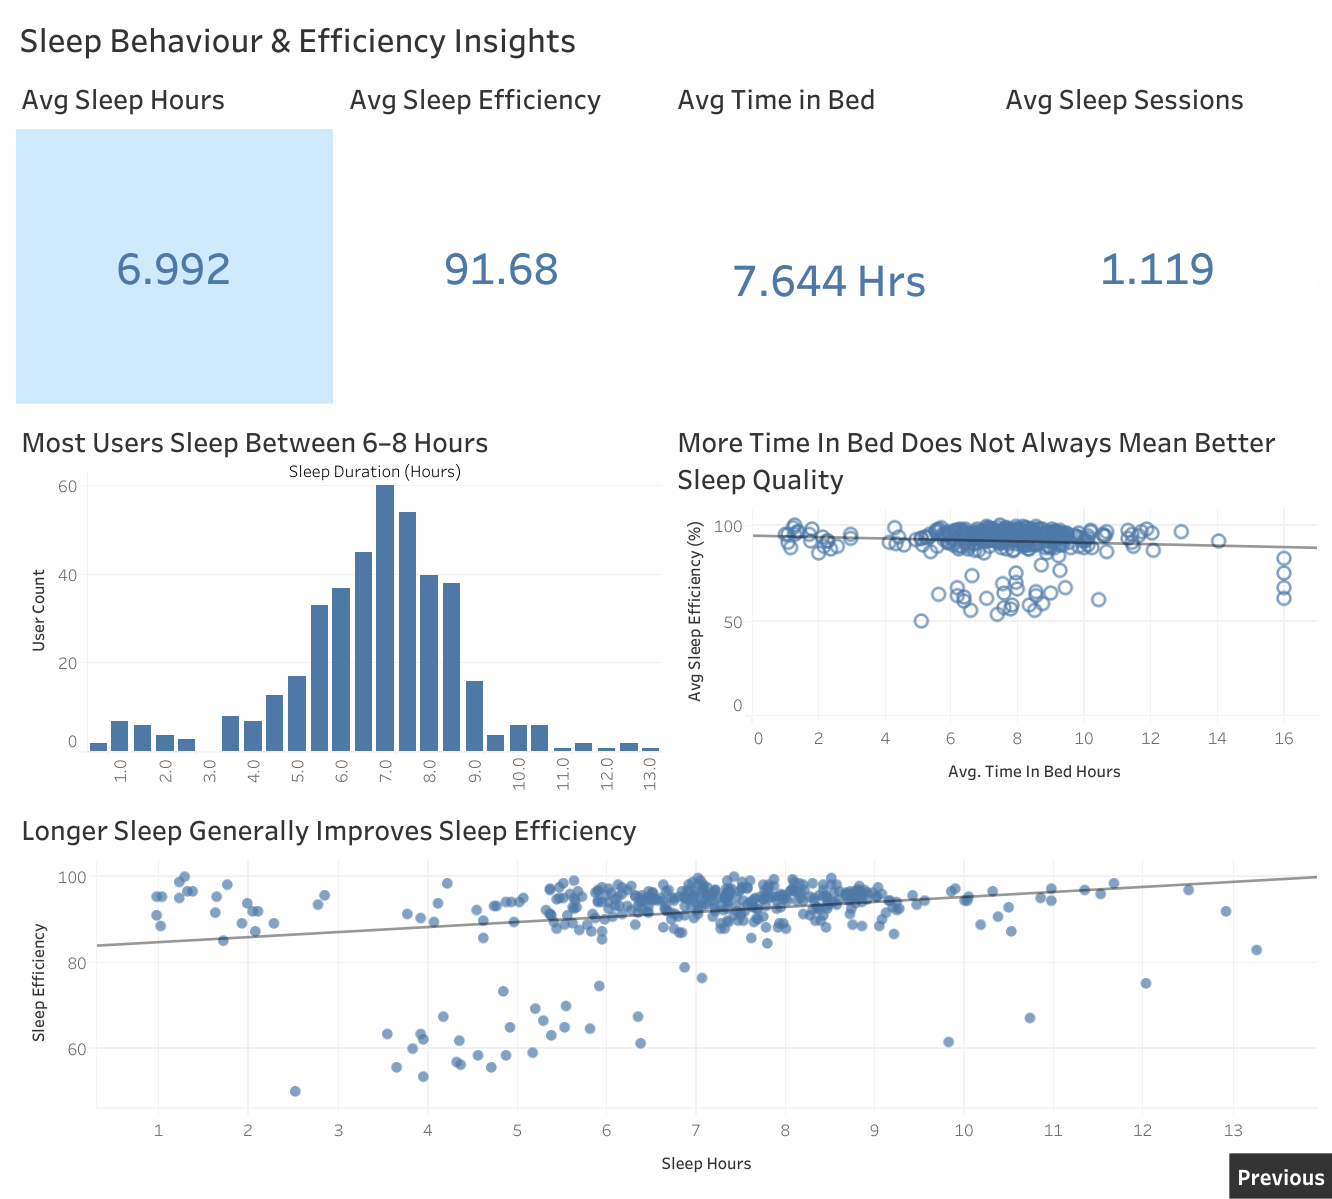

The page's visual inventory and layout, read from the dashboard file:
{"tool":"tableau","page":{"name":"Dashboard 3 - Sleep Behavior & Efficiency Insights","canvas":[1000,900],"ordinal":2},"visuals":[{"type":"title","box":[8,8,984,42]},{"type":"worksheet","title":"KPI - Avg Sleep Hours","mark":"Text","box":[8,50,246,257.2]},{"type":"worksheet","title":"KPI - Avg Sleep Efficiency","mark":"Automatic","box":[254,50,246,257.2]},{"type":"worksheet","title":"KPI - Avg Time in Bed","mark":"Automatic","box":[500,50,246,257.2]},{"type":"worksheet","title":"KPI - Avg Sleep Record","mark":"Automatic","box":[746,50,246,257.2]},{"type":"worksheet","title":"Sleep Duration Distribution","mark":"Automatic","rows":["Id"],"cols":["Sleep Hours (bin)"],"box":[8,307.2,492,290.5]},{"type":"worksheet","title":"Sleep Efficiency vs Time In Bed","mark":"Automatic","rows":["Sleep_Efficiency"],"cols":["Calculation_0014093994258515"],"box":[500,307.2,492,290.5]},{"type":"worksheet","title":"Sleep Hours vs Sleep Efficiency","mark":"Circle","rows":["Sleep_Efficiency"],"cols":["Sleep_Hours"],"box":[8,597.7,984,294.3]},{"type":"dashboard-object","box":[922,865,78,34]}]}

Visuals, with their boxes in screenshot pixels (x1, y1, x2, y2), scaled from the page's 1000x900 canvas onto the 1332x1199 screenshot:
title: crop(11, 11, 1321, 67)
"KPI - Avg Sleep Hours" worksheet (Text marks): crop(11, 67, 338, 409)
"KPI - Avg Sleep Efficiency" worksheet: crop(338, 67, 666, 409)
"KPI - Avg Time in Bed" worksheet: crop(666, 67, 994, 409)
"KPI - Avg Sleep Record" worksheet: crop(994, 67, 1321, 409)
"Sleep Duration Distribution" worksheet: crop(11, 409, 666, 796)
"Sleep Efficiency vs Time In Bed" worksheet: crop(666, 409, 1321, 796)
"Sleep Hours vs Sleep Efficiency" worksheet (Circle marks): crop(11, 796, 1321, 1188)
dashboard-object: crop(1228, 1152, 1331, 1198)
